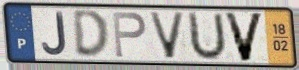D: (71, 8, 112, 61)
J: (41, 10, 69, 57)
P: (110, 10, 148, 60)
U: (188, 10, 229, 63)
V: (222, 10, 267, 64), (146, 10, 187, 61)
